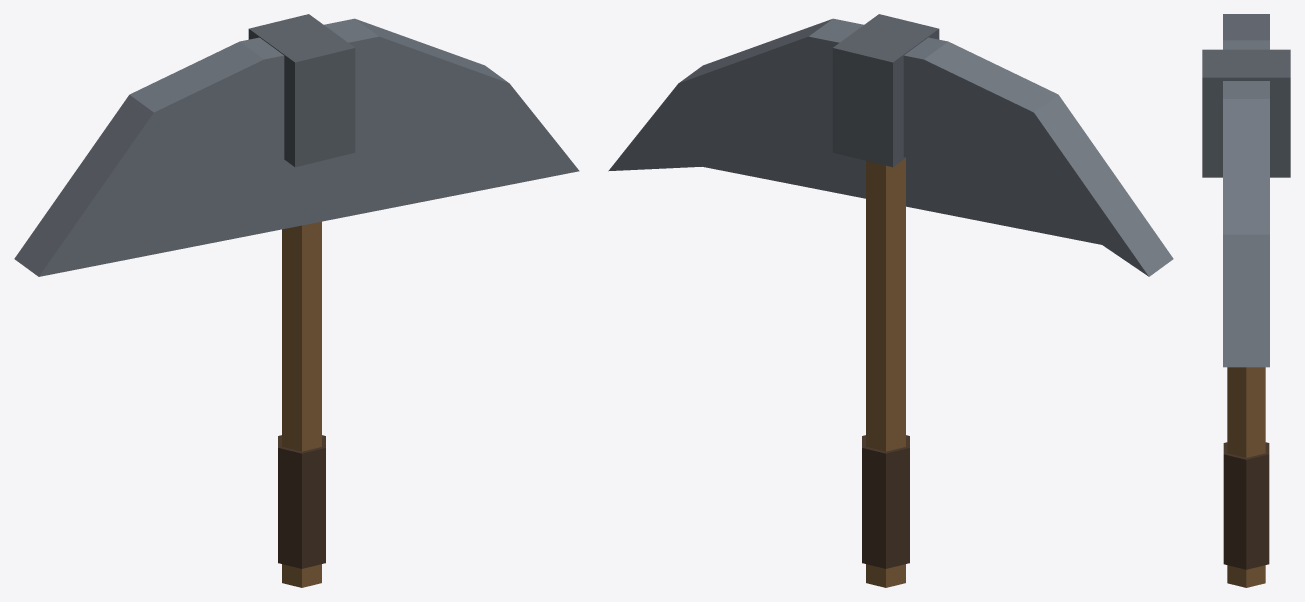
The model's file is ironPickaxe.glb.
The picture shows the model from 3 angles, left to right: view 1: azimuth 30°, elevation 25°; view 2: azimuth 150°, elevation 25°; view 3: azimuth 270°, elevation 25°; orthographic projection. The views are drawn at different scales.
Parts seen in each view (by area): view 1: ironPickaxe; view 2: ironPickaxe; view 3: ironPickaxe.
Boxes of the visible parts, x1=… form: ironPickaxe: x1=14, y1=14, x2=579, y2=587; ironPickaxe: x1=608, y1=14, x2=1173, y2=587; ironPickaxe: x1=1202, y1=14, x2=1290, y2=587.
Bounding box in the file's own units: 1 × 0.9537 × 0.1481.
